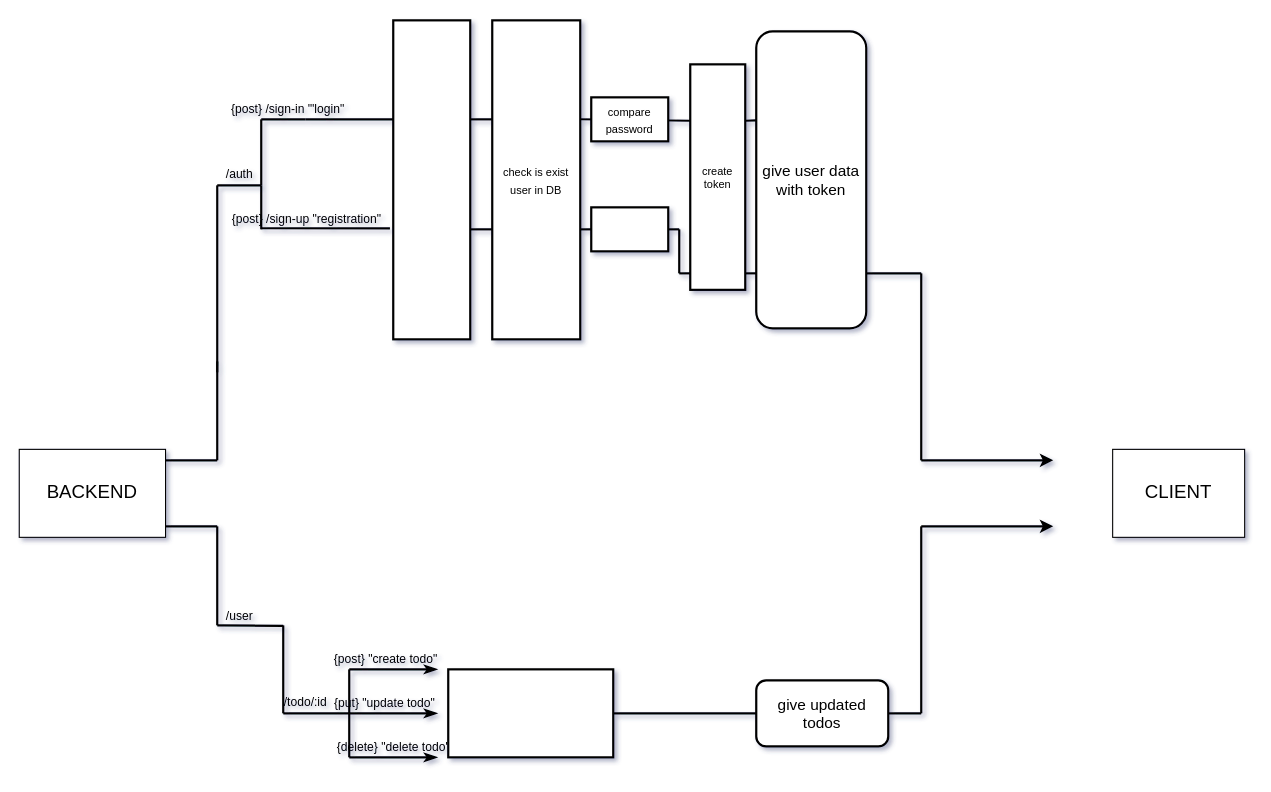
Some shapes in this 1271 by 792 pixel diagram are drawn without their labels. The shapes that lost their labels are listed below. From the top down, each one's box as (x1, y1, x2, y2) in pixels, then its label:
(392, 19, 471, 340): Body Request Validation
(590, 206, 669, 252): encrypt password
(447, 668, 614, 758): token validate
